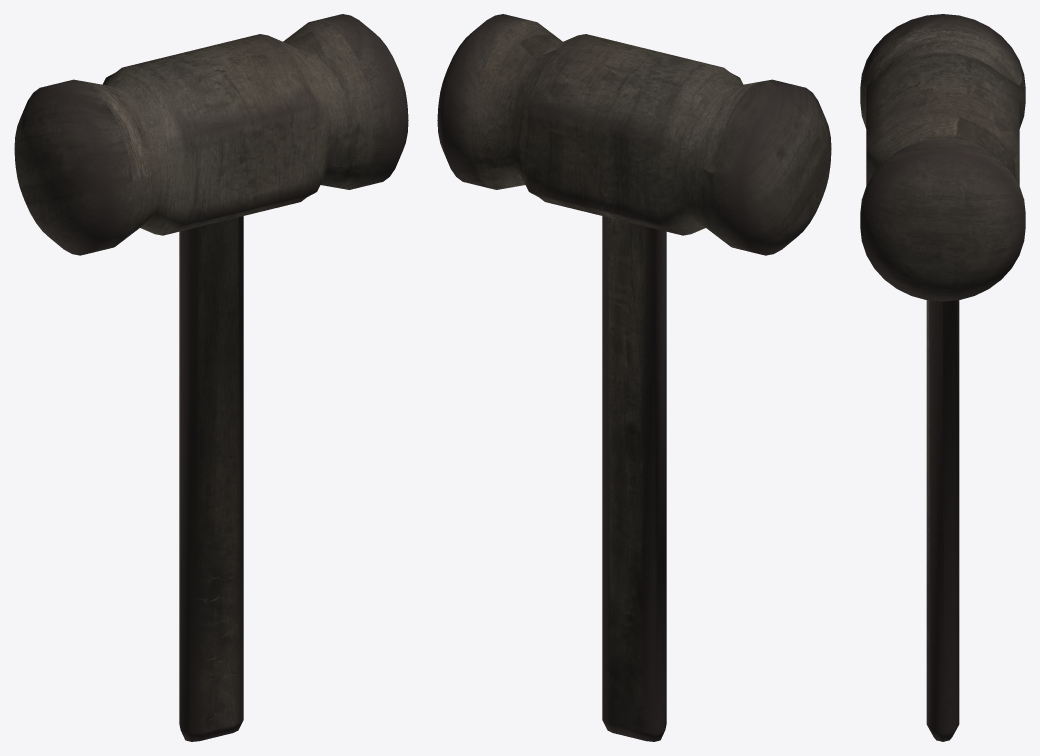
The model's file is mallet1.fbx.
The picture shows the model from 3 angles, left to right: view 1: azimuth 30°, elevation 25°; view 2: azimuth 150°, elevation 25°; view 3: azimuth 270°, elevation 25°; orthographic projection. The views are drawn at different scales.
Parts seen in each view (by area): view 1: Mallet; view 2: Mallet; view 3: Mallet.
Part boxes in pixels (x1=…): Mallet: x1=14, y1=14, x2=408, y2=741; Mallet: x1=437, y1=14, x2=831, y2=741; Mallet: x1=860, y1=14, x2=1025, y2=741.
Bounding box in the file's own units: 559 × 1049 × 243.
